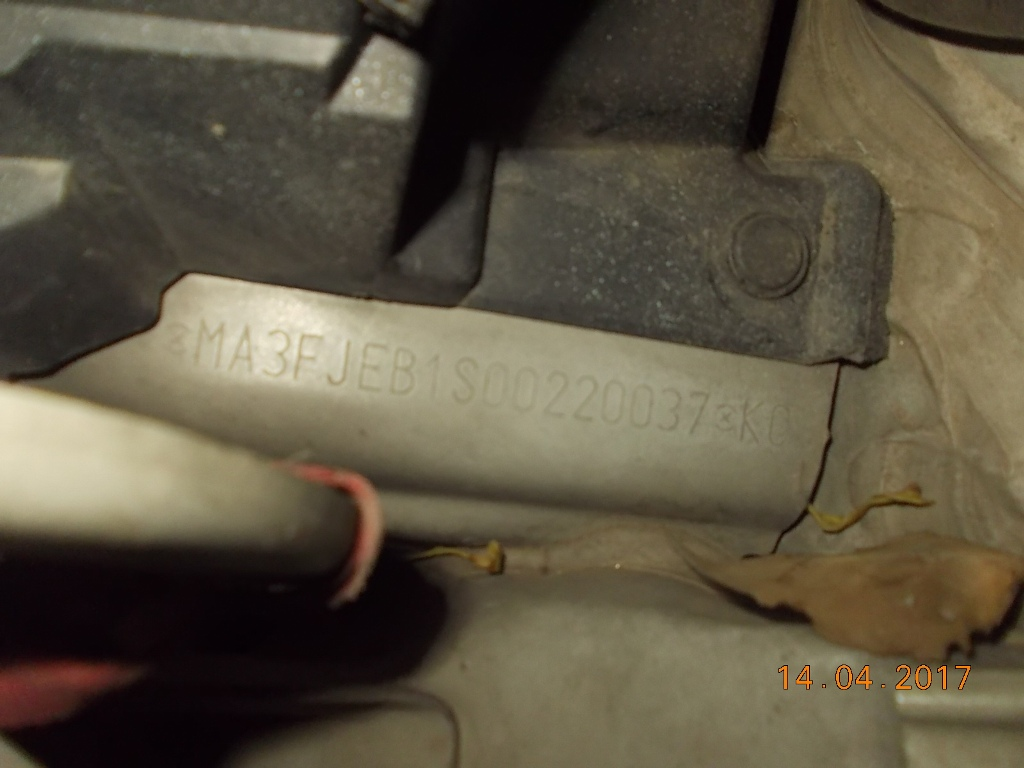Dent: (250, 415, 614, 648)
